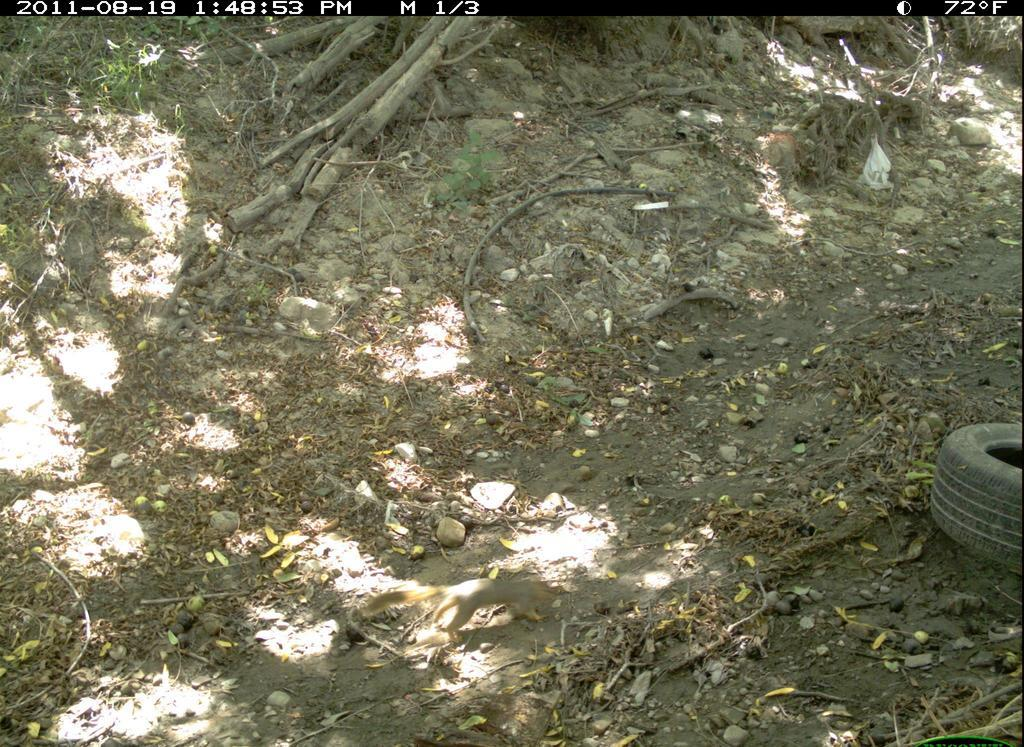squirrel: (355, 567, 573, 646)
